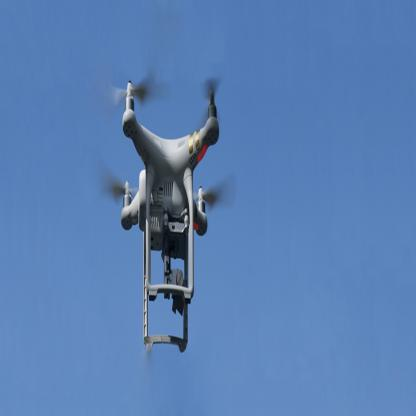drone: (90, 64, 248, 265)
